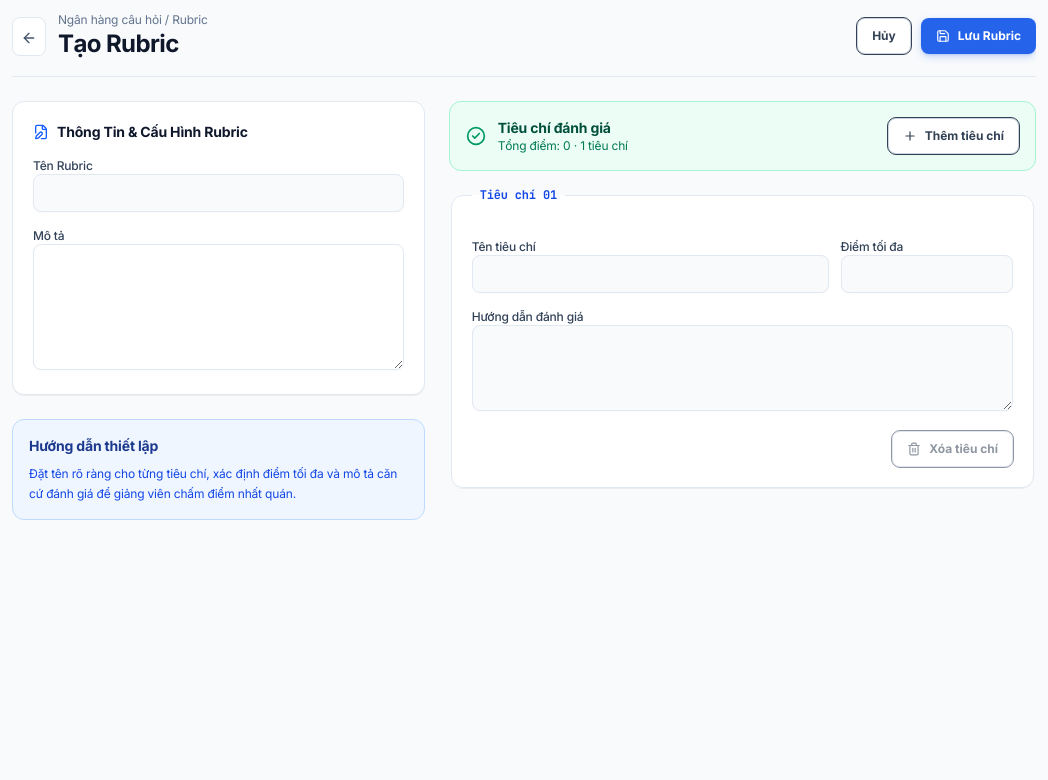
Scenario: Global Rubric navigation › validates global create and preserves the global route
Expected: the heading "Tạo Rubric" is shown, [58,29,179,58]
Click the button "Lưu Rubric".
click(978, 36)  # box [921,18,1036,54]
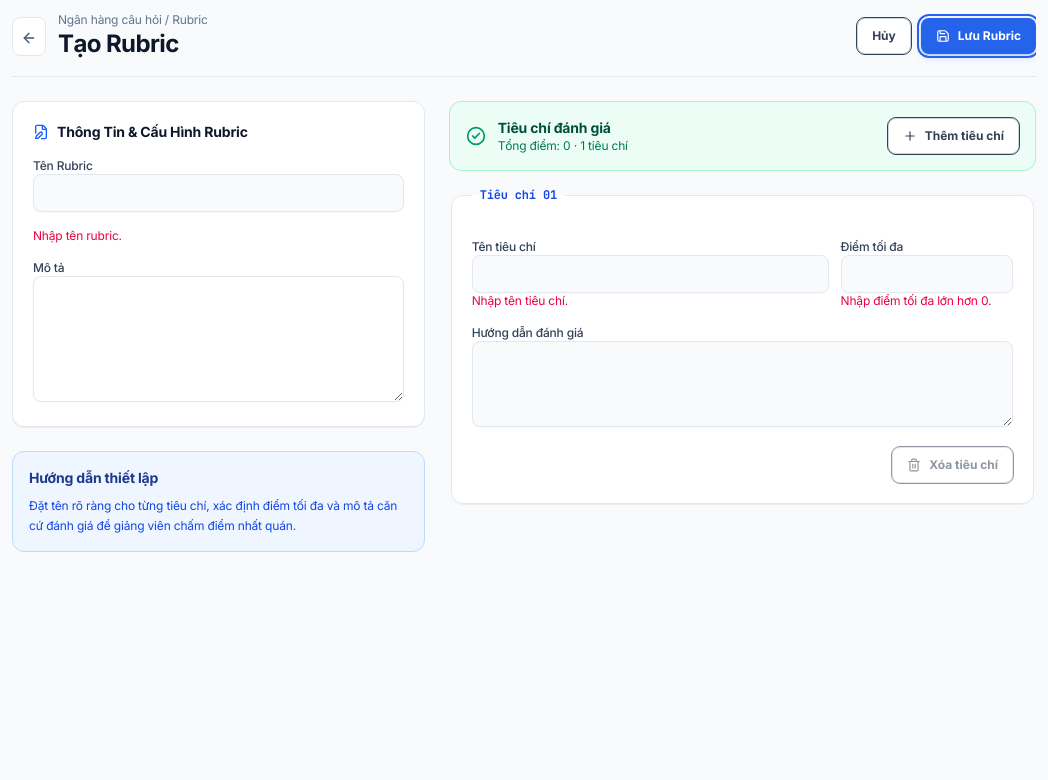
Now the text "Nhập tên rubric." is shown, box [33,228,122,243]
Now the text "Nhập tên tiêu chí." is shown, box [472,293,568,308]
